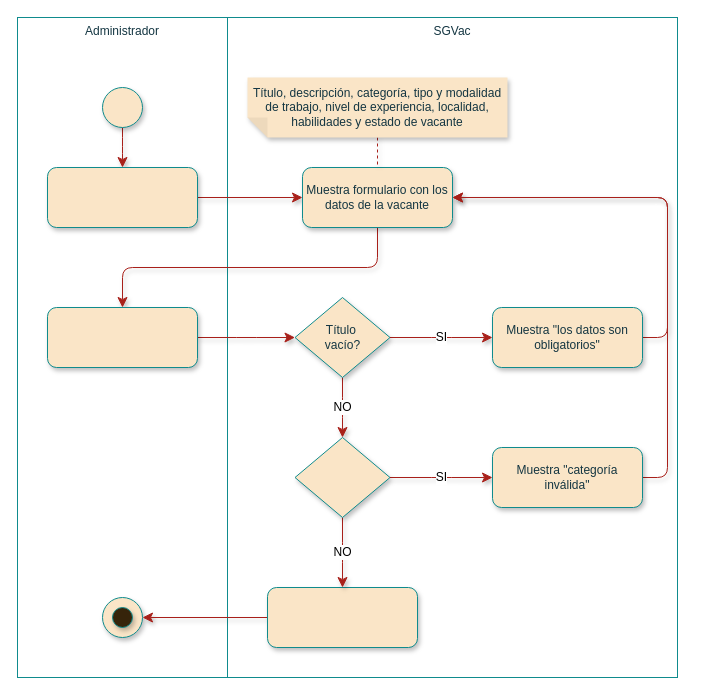
The diagram is 701 pixels wide and 695 high, and some of its shapes have lost their labels. The shapes that lost their labels are listed below. From the top down, each one's centre as x and y in pixels, then its label:
[123,198]: Elige la opción de modificar una vacante
[123,338]: Ingresa datos y guarda cambios
[343,478]: Categoría inválida?
[343,618]: Modifica la vacante
